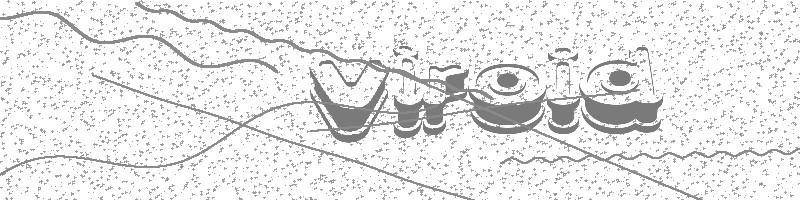d: (581, 47, 664, 134)
i: (549, 47, 581, 133), (394, 44, 423, 138)
o: (470, 63, 547, 134)
r: (423, 65, 469, 135)
v: (309, 60, 389, 142)
